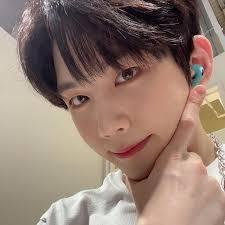earphone: (187, 62, 206, 88)
